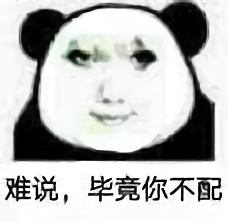dragon: (61, 35, 167, 130)
